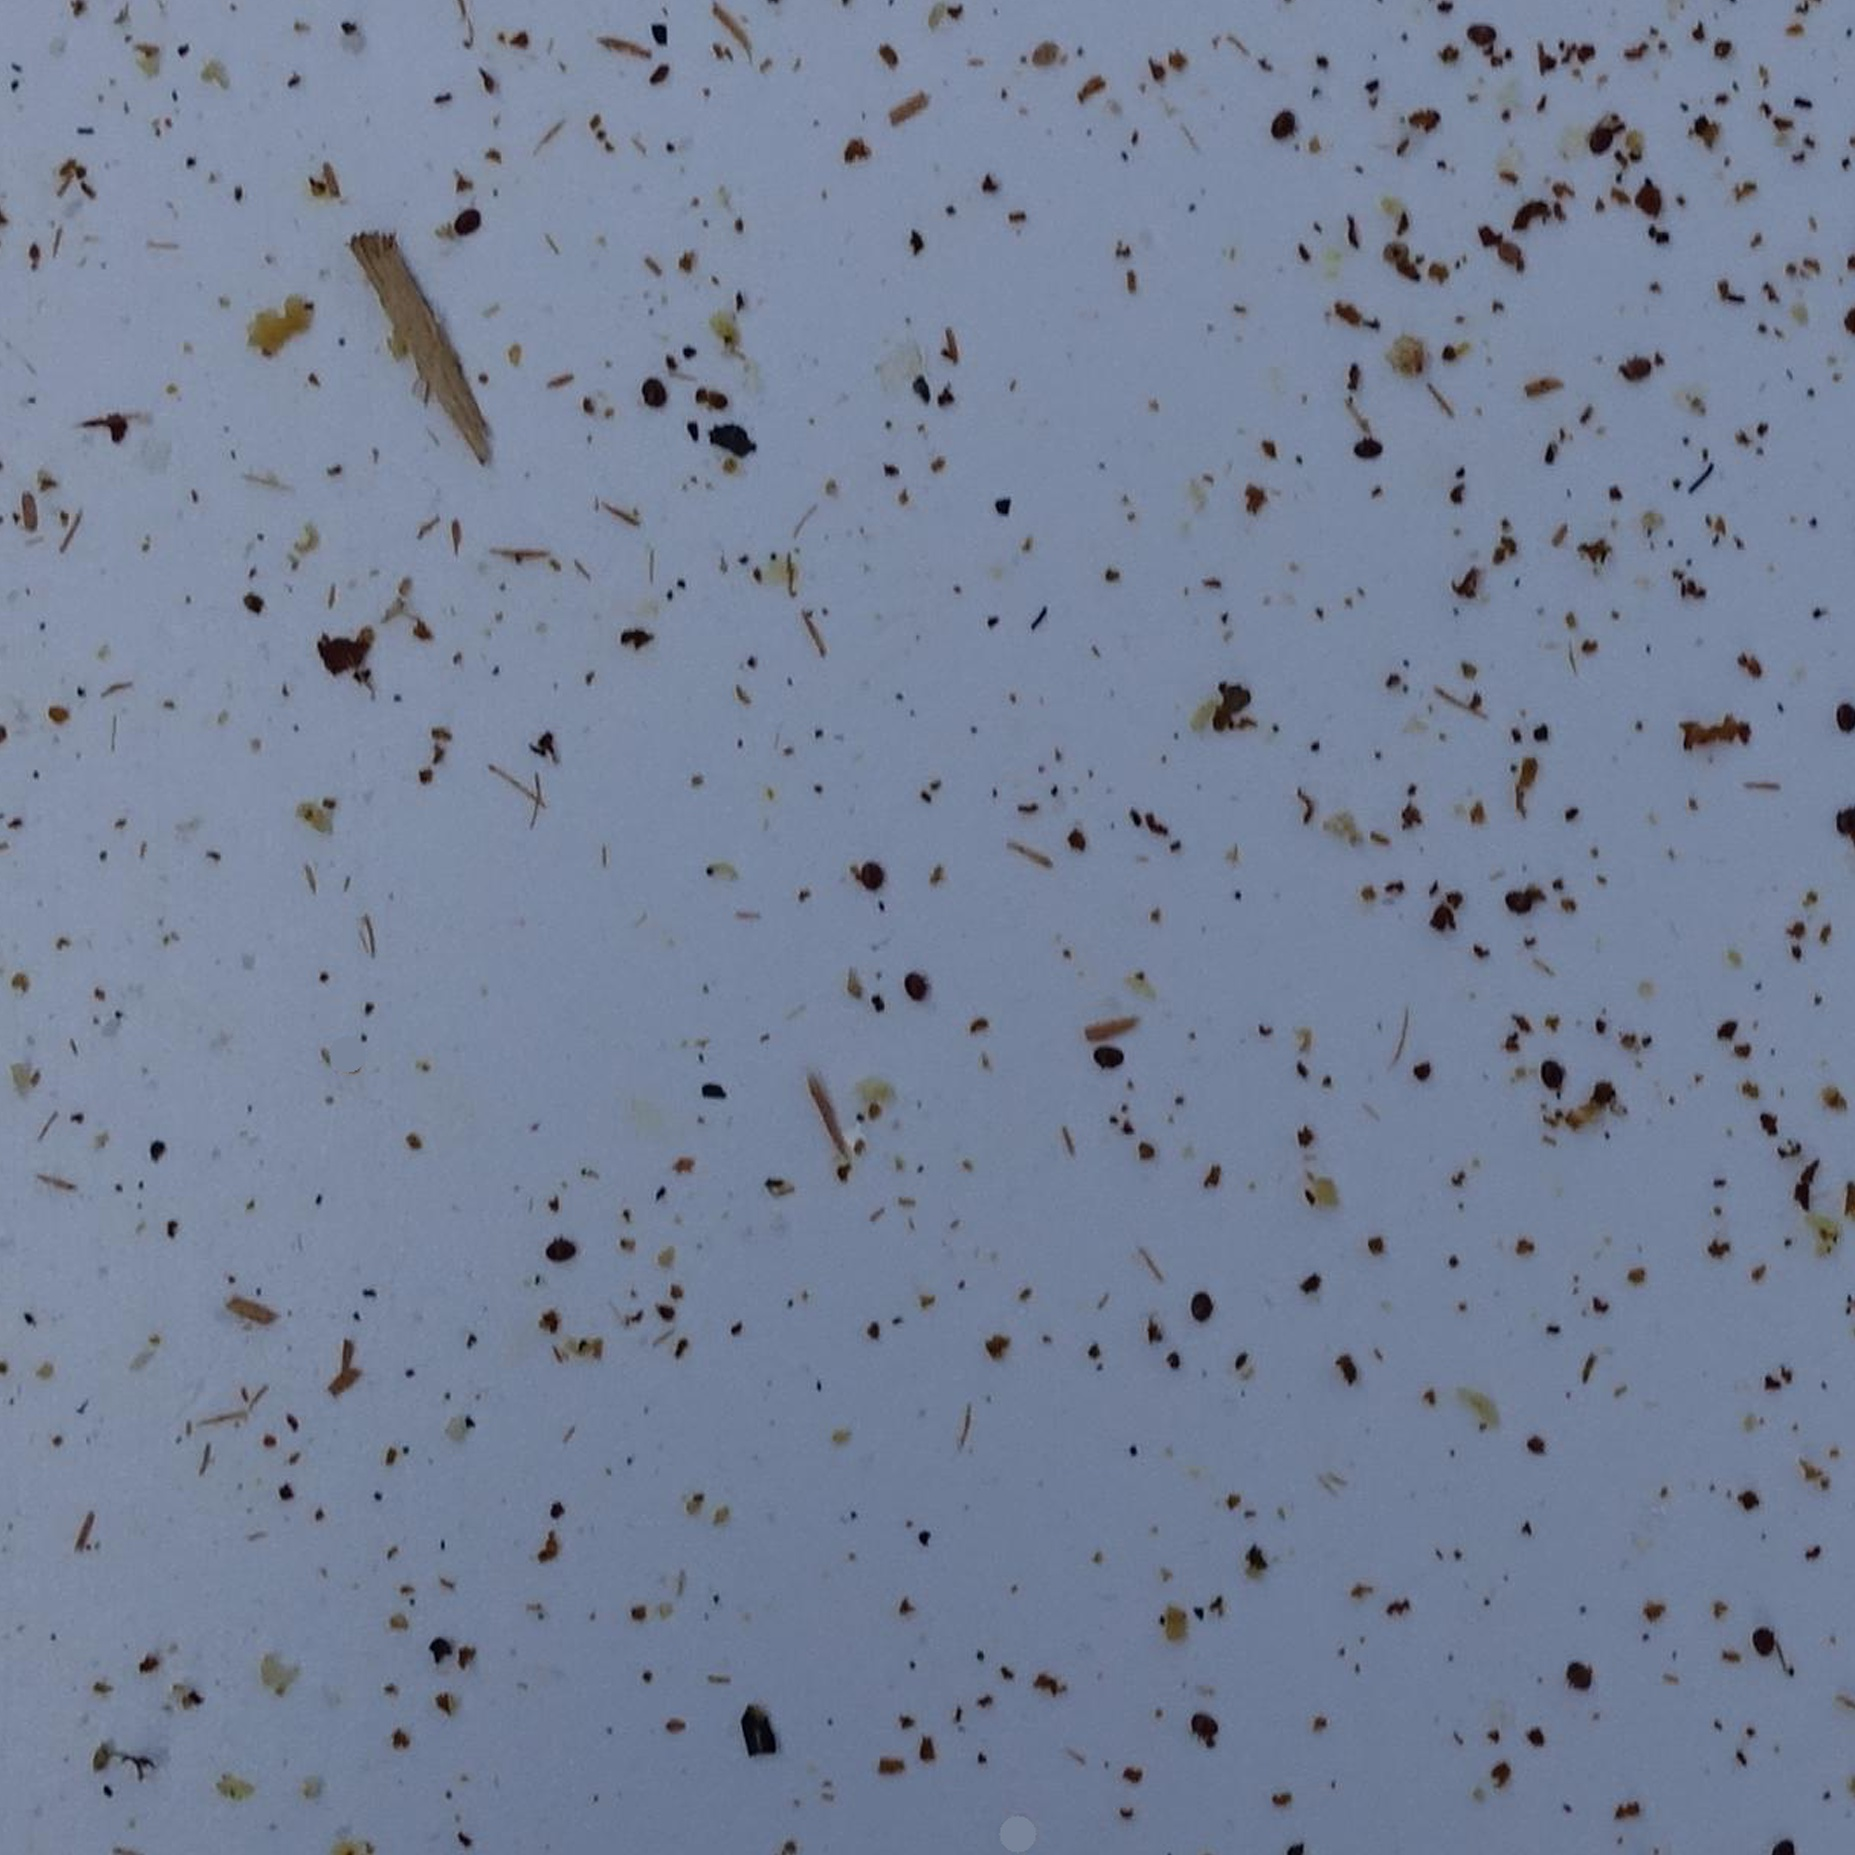Varroa: (1352, 431, 1390, 469), (533, 1226, 571, 1262), (1466, 20, 1502, 58), (1583, 126, 1619, 163), (1563, 1660, 1598, 1695), (1267, 110, 1303, 144), (1536, 1055, 1570, 1091), (1091, 1046, 1125, 1082), (856, 861, 892, 895), (1186, 1709, 1220, 1745), (1186, 1289, 1220, 1323), (900, 967, 934, 1001), (1510, 892, 1544, 926), (1621, 352, 1653, 387), (454, 212, 486, 245), (639, 377, 669, 409), (438, 199, 471, 229), (1746, 1624, 1775, 1656)
